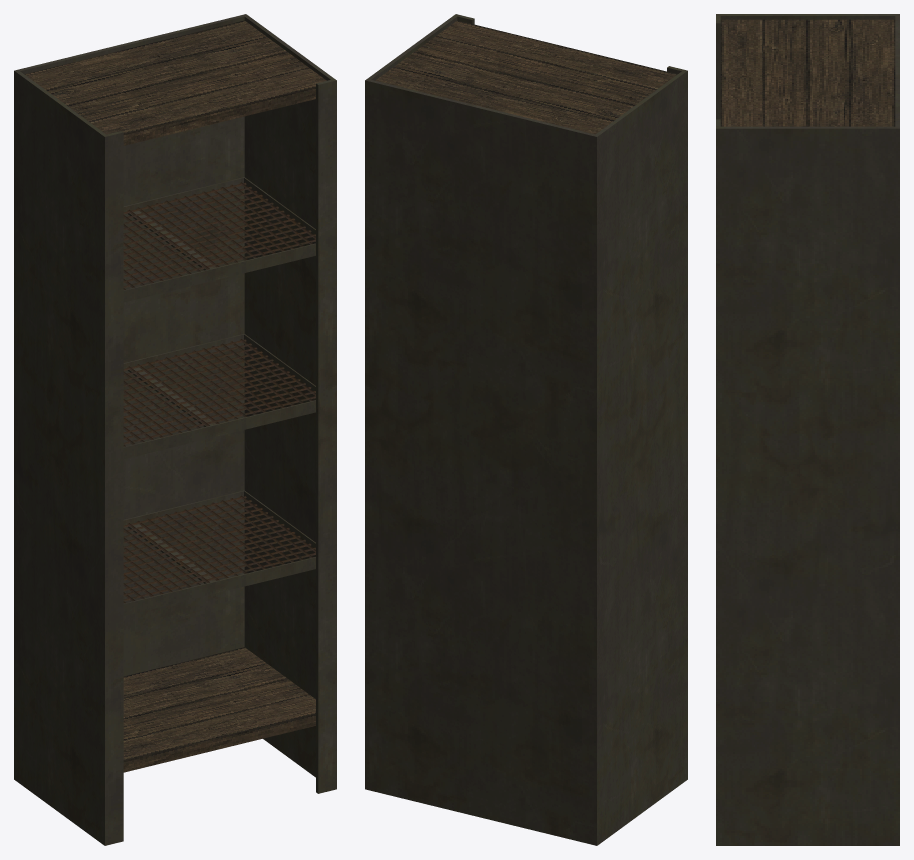
File: shelf_mx_6_3.glb
The picture shows the model from 3 angles, left to right: view 1: azimuth 30°, elevation 25°; view 2: azimuth 150°, elevation 25°; view 3: azimuth 270°, elevation 25°; orthographic projection.
Parts seen in each view (by area): view 1: shelf_mx_6_3; view 2: shelf_mx_6_3; view 3: shelf_mx_6_3.
Part boxes in pixels (box(x1,y1,x2,y2)): shelf_mx_6_3: box(14, 14, 336, 845); shelf_mx_6_3: box(365, 14, 687, 845); shelf_mx_6_3: box(716, 14, 899, 845).
Size of the model in its own units: 0.62 by 1.81 by 0.42.
Materials: 3 (3 with a texture image).
